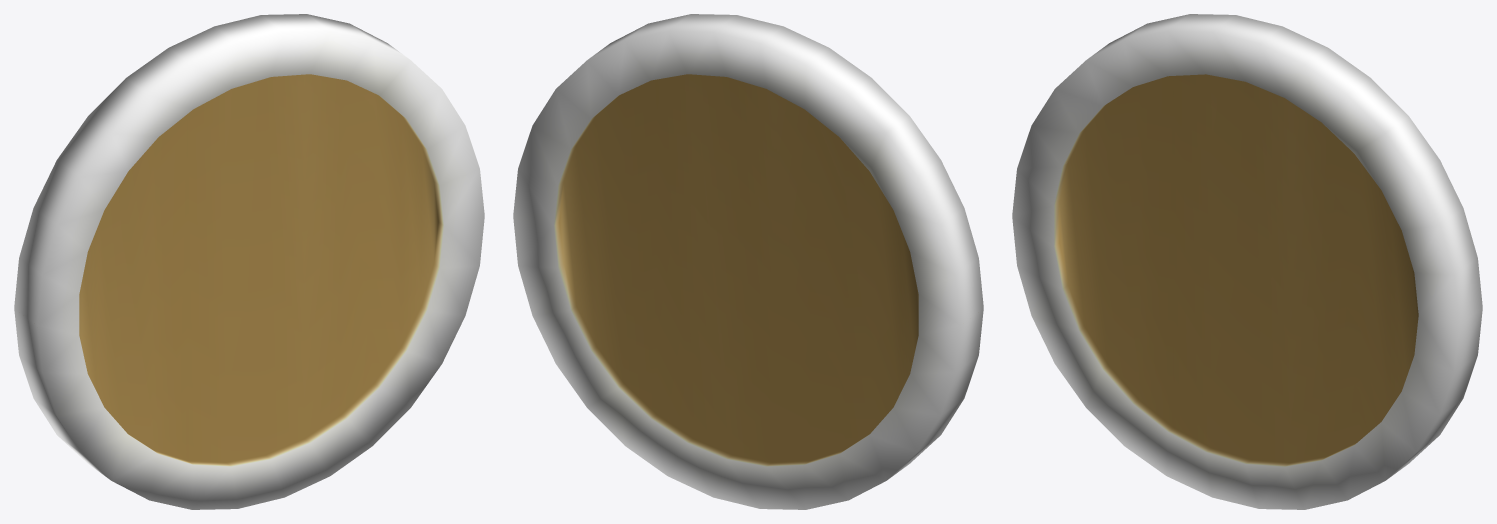
The model's file is coin.obj.
The picture shows the model from 3 angles, left to right: view 1: azimuth 30°, elevation 25°; view 2: azimuth 150°, elevation 25°; view 3: azimuth 330°, elevation 25°; orthographic projection.
Bounding box in the file's own units: 1 × 0.9945 × 0.0909.
